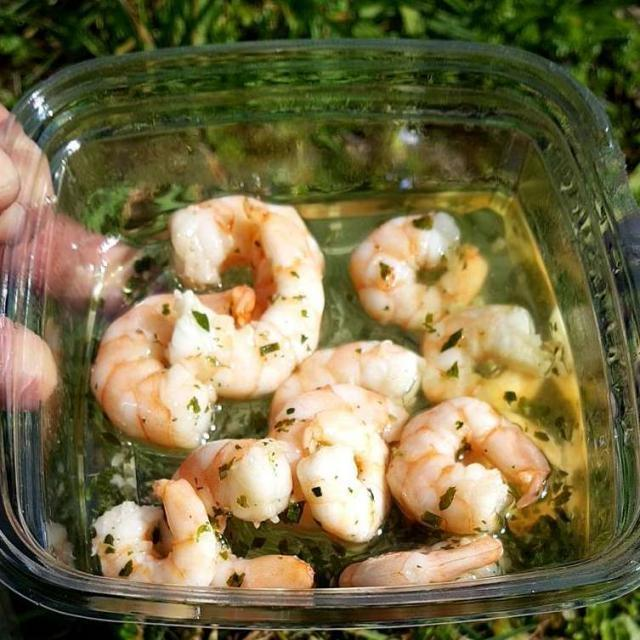salad: (77, 178, 597, 562)
shrimp: (102, 221, 547, 602)
